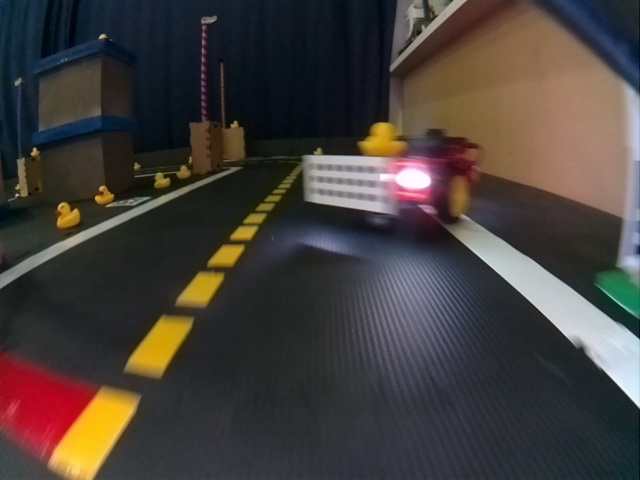Duckie: (359, 123, 405, 154), (56, 204, 80, 228), (95, 186, 114, 205), (155, 173, 169, 188), (178, 167, 188, 179), (229, 120, 238, 128), (313, 148, 322, 155)
Duckiebot: (305, 135, 474, 221)
QR code: (110, 197, 146, 206)
